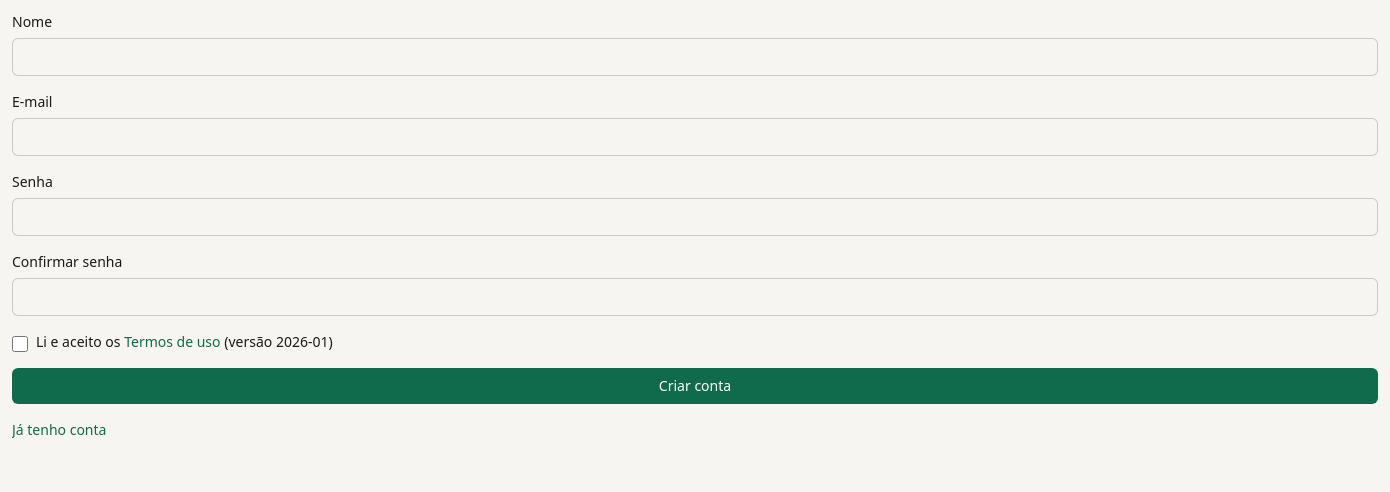
RegisterForm (RGR-05–09, RGR-11, RGR-13, BFFUI-41, BFFUI-32) › shows generic rate limit message when Retry-After is absent
The width and height of the screenshot is (1390, 492).
Type "Ada Lovelace" into the field labelled "Nome".
click(695, 57); type("Ada Lovelace")  # box [12,38,1378,76]
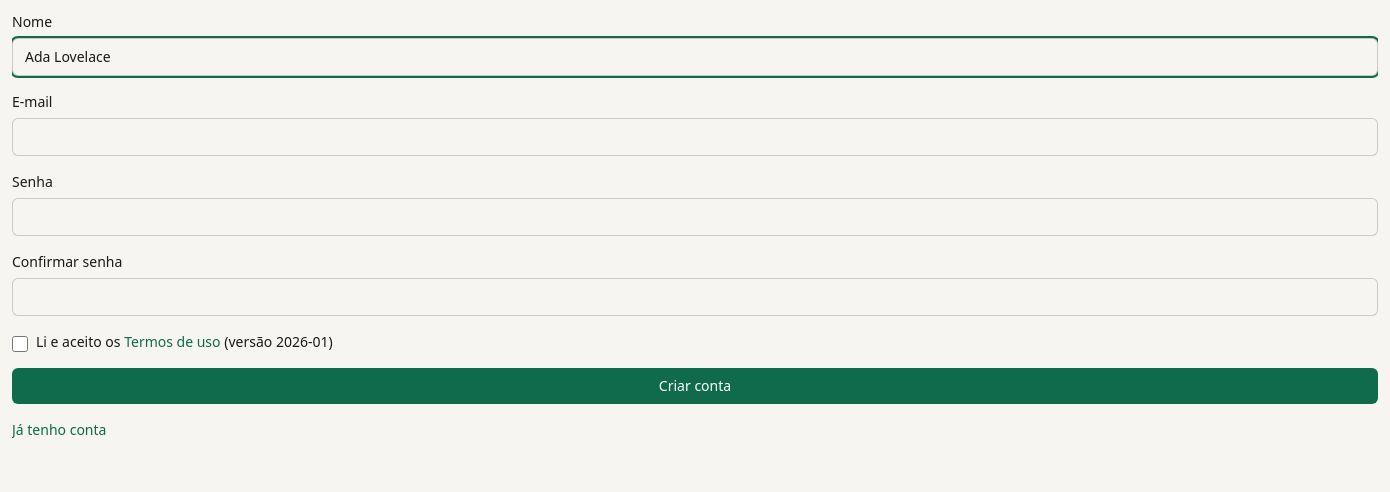
Type "ada@example.com" into the field labelled "E-mail".
click(695, 137); type("ada@example.com")  # box [12,118,1378,156]
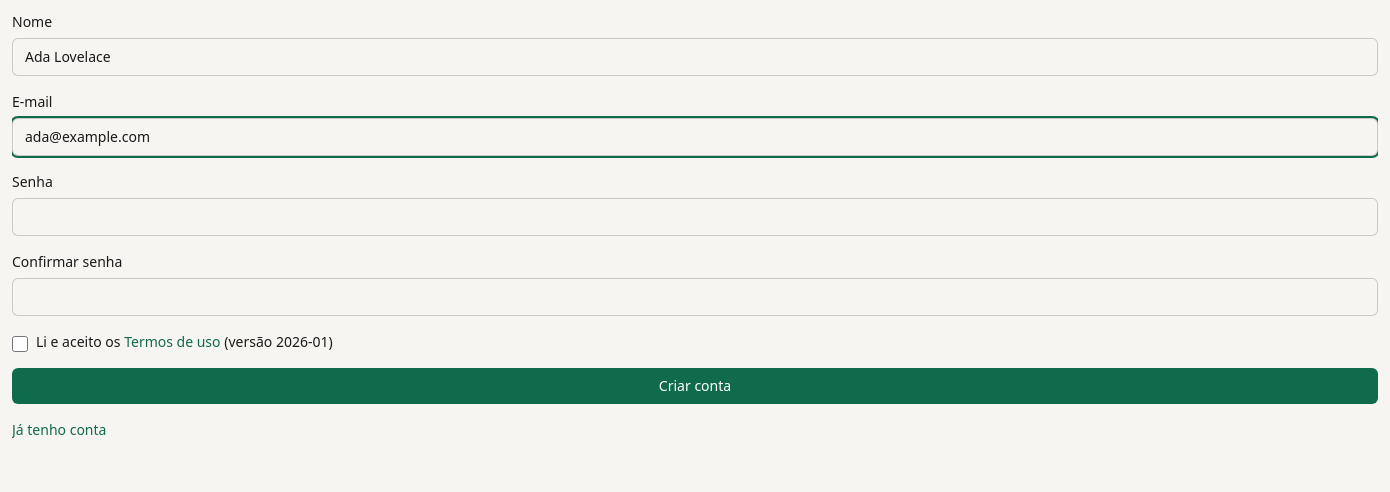
Type "Abcdefghij1!" into the password field labelled "Senha".
click(695, 217); type("Abcdefghij1!")  # box [12,198,1378,236]
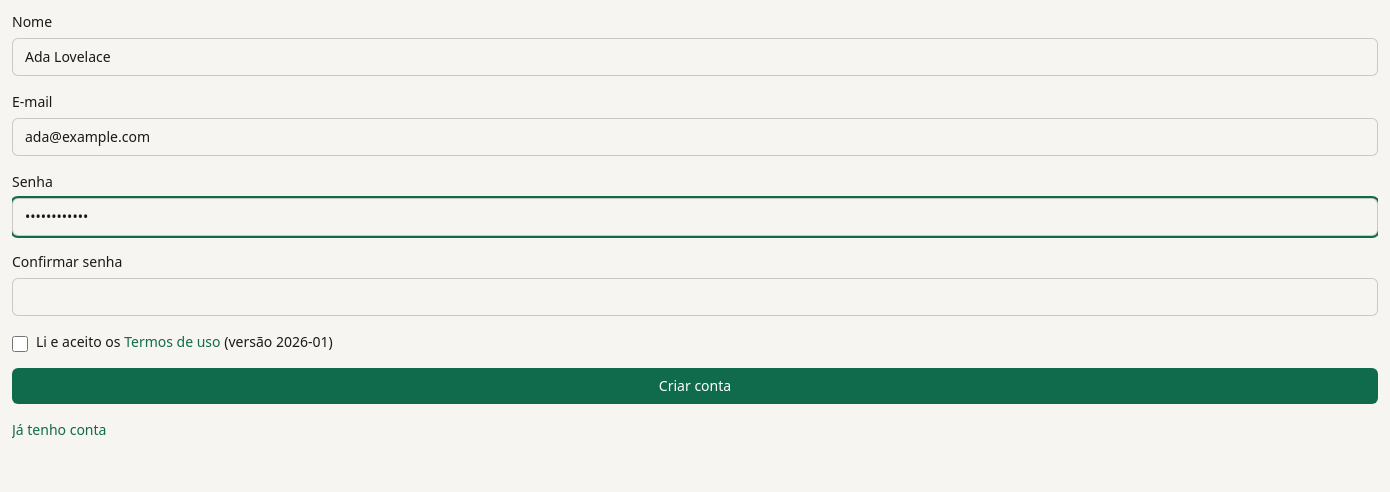
Type "Abcdefghij1!" into the password field labelled "Confirmar senha".
click(695, 297); type("Abcdefghij1!")  # box [12,278,1378,316]
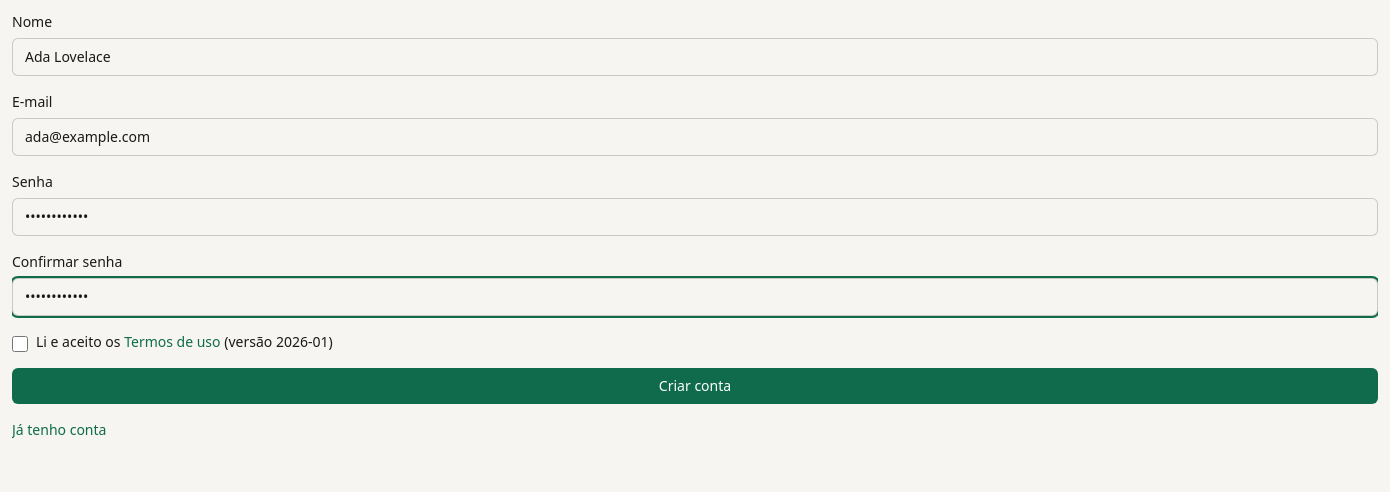
Click the checkbox.
click(20, 344)  # box [12,336,28,352]
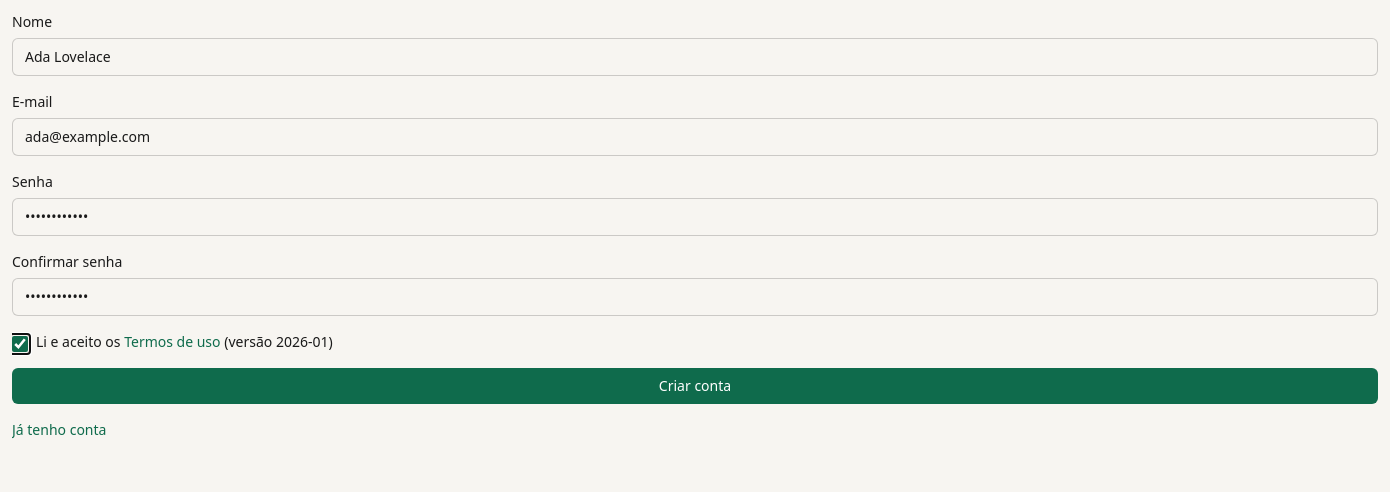
Click the button "Criar conta".
click(695, 386)  # box [12,368,1378,404]
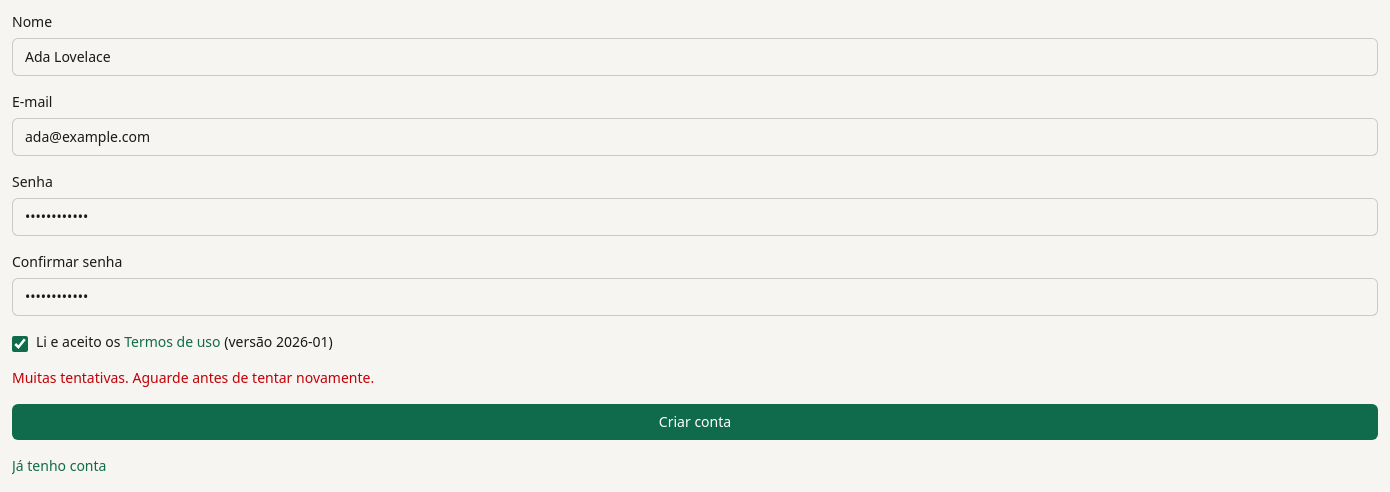
Result: the message reads "Muitas tentativas. Aguarde antes de tentar novamente." at [12,368,374,387]
